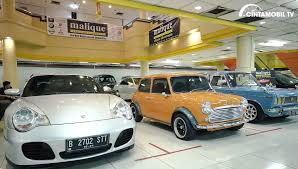plate: (65, 133, 109, 152)
